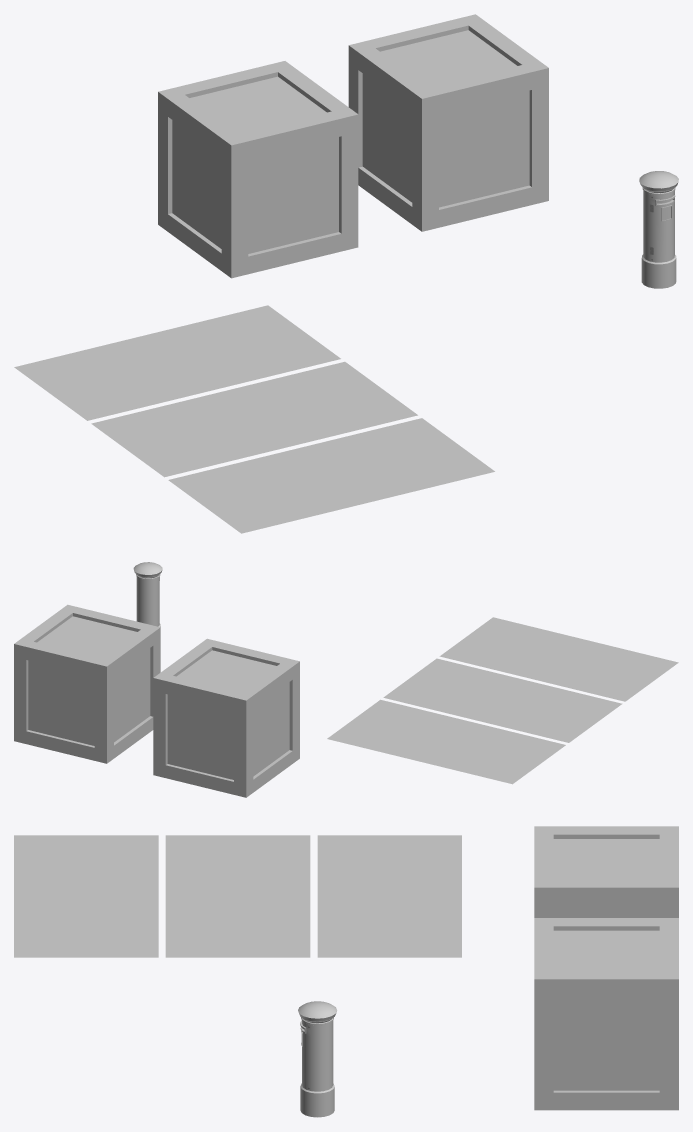
Rendered from Hammer_HotspotUVs_ExampleAssets.fbx.
The picture shows the model from 3 angles, top to bottom: view 1: azimuth 30°, elevation 25°; view 2: azimuth 150°, elevation 25°; view 3: azimuth 270°, elevation 25°; orthographic projection. The views are drawn at different scales.
Parts seen in each view (by area): view 1: HotspotReference, Crate_01_HotspotUvs, Crate_02_HotspotUvs, PostBox_HotspotUvs; view 2: HotspotReference, Crate_01_HotspotUvs, Crate_02_HotspotUvs, PostBox_HotspotUvs; view 3: HotspotReference, Crate_02_HotspotUvs, Crate_01_HotspotUvs, PostBox_HotspotUvs.
Boxes of the visible parts, x1,y1,x2,y2 form: HotspotReference: [14, 305, 494, 533]; Crate_01_HotspotUvs: [158, 61, 358, 278]; Crate_02_HotspotUvs: [348, 14, 548, 231]; PostBox_HotspotUvs: [639, 171, 678, 288]; HotspotReference: [327, 617, 678, 784]; Crate_01_HotspotUvs: [153, 638, 299, 797]; Crate_02_HotspotUvs: [14, 604, 160, 763]; PostBox_HotspotUvs: [133, 562, 162, 627]; HotspotReference: [14, 835, 461, 957]; Crate_02_HotspotUvs: [534, 918, 678, 1110]; Crate_01_HotspotUvs: [534, 826, 678, 917]; PostBox_HotspotUvs: [298, 1001, 337, 1117].
Bounding box in the file's own units: 9.27 × 2 × 9.2.
